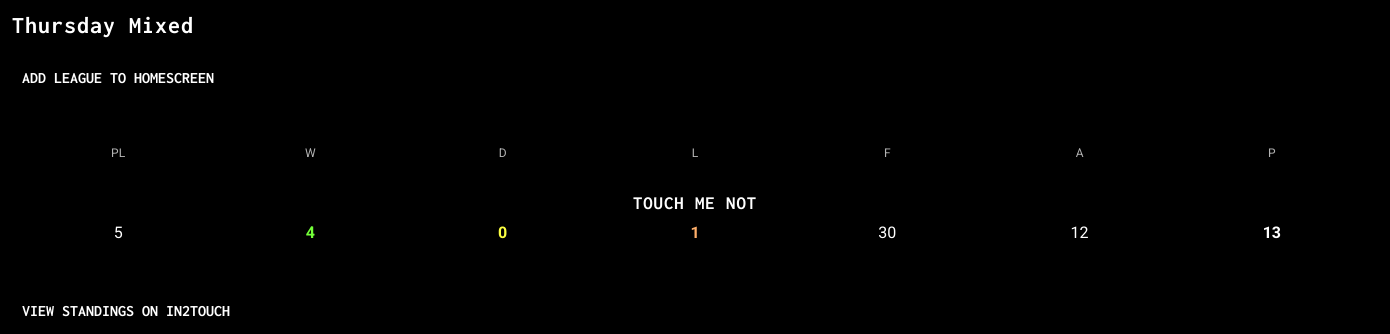
Scenario: LeaguePage › loads an unsaved league, shows its table and can add it
Expected: the heading "Thursday Mixed" is shown, [12, 12, 194, 38]
Expected: the heading "Touch Me Not" is shown, [633, 193, 757, 213]
Click the button "Add league to homescreen" at coordinates (118, 78), box [12, 54, 1378, 101]
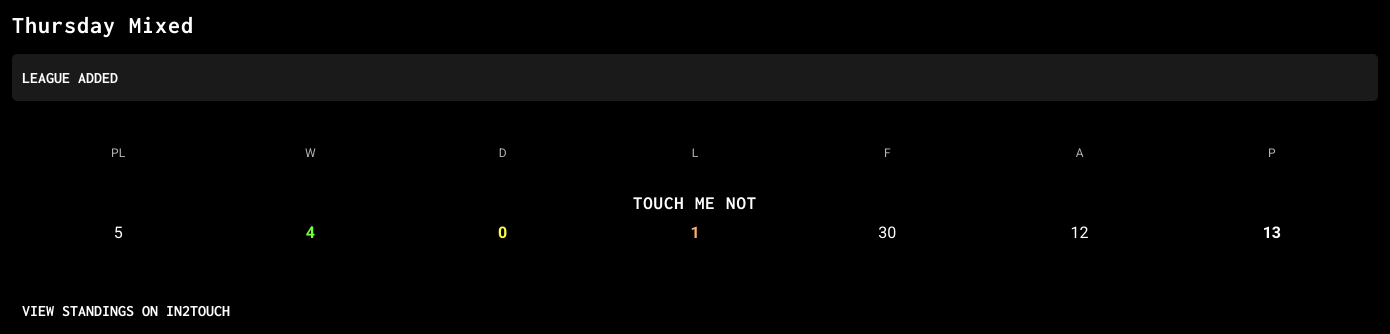
Now the text "League added" is shown, box [12, 54, 1378, 101]
